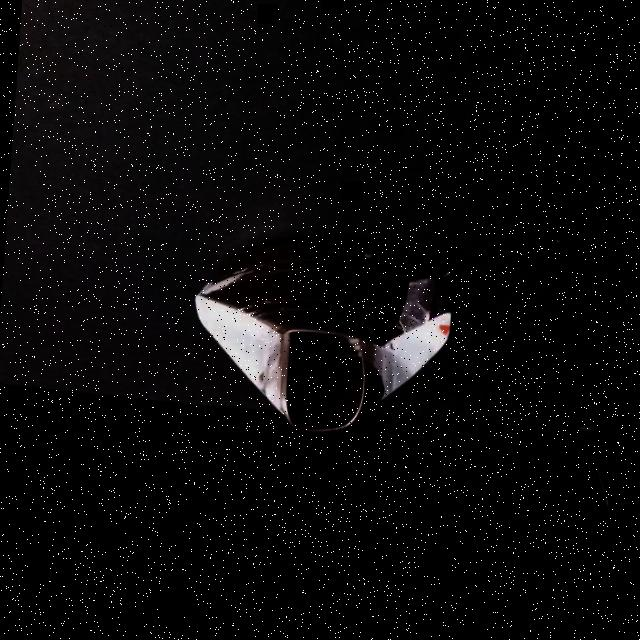can: (182, 229, 464, 447)
